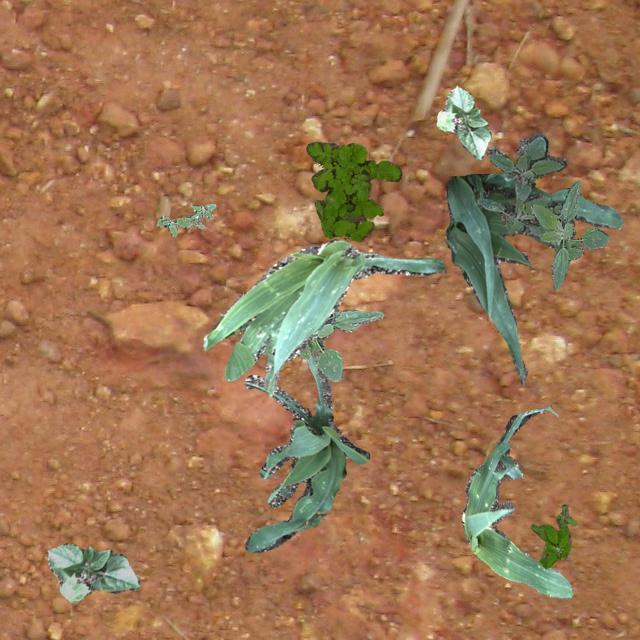crop: (444, 172, 622, 384), (202, 238, 442, 394), (244, 350, 368, 552), (461, 404, 572, 598), (262, 304, 382, 380), (47, 542, 139, 602), (436, 84, 490, 158)
weed: (476, 130, 574, 248), (304, 140, 400, 240), (530, 180, 608, 288), (530, 503, 576, 568), (156, 202, 214, 235)
